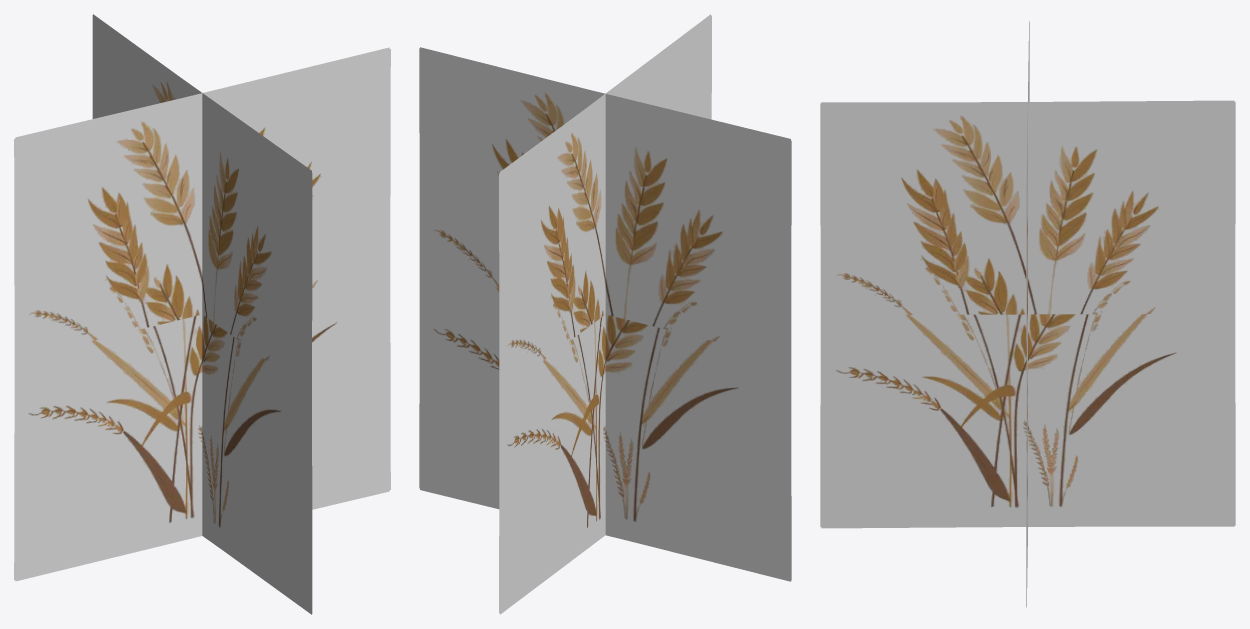
Rendered from grass9.fbx.
The picture shows the model from 3 angles, left to right: view 1: azimuth 30°, elevation 25°; view 2: azimuth 150°, elevation 25°; view 3: azimuth 270°, elevation 25°; orthographic projection. The views are drawn at different scales.
Visible parts, largest first — view 1: grass10; view 2: grass10; view 3: grass10.
Boxes of the visible parts, x1,y1,x2,y2 form: grass10: [14, 14, 390, 614]; grass10: [419, 14, 791, 614]; grass10: [820, 21, 1235, 607].
Size of the model in its own units: 107 by 121 by 107.
Materials: 1 (1 with a texture image).
